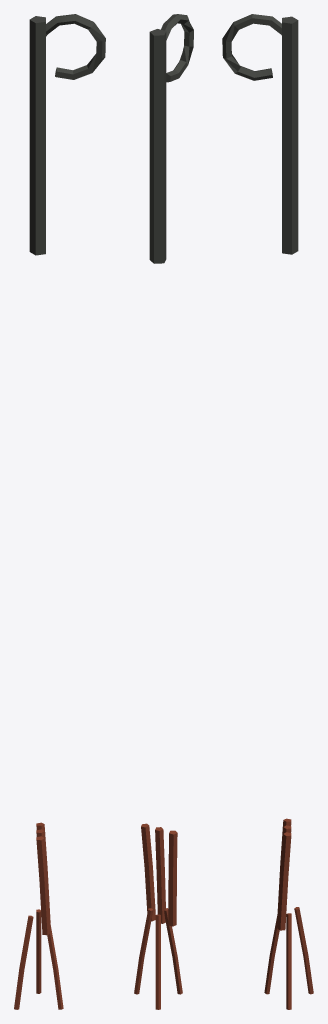
Rendered from lantern-hardware-lod1.fbx.
The picture shows the model from 3 angles, left to right: view 1: azimuth 90°, elevation 25°; view 2: azimuth 150°, elevation 25°; view 3: azimuth 270°, elevation 25°; orthographic projection.
Parts seen in each view (by area): view 1: Lantern suspension stem, Bent iron suspension hook, Braided lantern tail cord, Separate cloth tassel strands.002, Separate cloth tassel strands, Separate cloth tassel strands.001; view 2: Lantern suspension stem, Bent iron suspension hook, Braided lantern tail cord, Braided lantern tail cord.001, Braided lantern tail cord.002, Separate cloth tassel strands.002, Separate cloth tassel strands, Separate cloth tassel strands.001; view 3: Lantern suspension stem, Bent iron suspension hook, Braided lantern tail cord.002, Separate cloth tassel strands, Separate cloth tassel strands.002, Separate cloth tassel strands.001.
Part boxes in pixels (x1,y1,x2,y2): Lantern suspension stem: [29, 16, 45, 255]; Bent iron suspension hook: [46, 14, 105, 79]; Braided lantern tail cord: [36, 836, 50, 935]; Separate cloth tassel strands.002: [14, 915, 33, 1009]; Separate cloth tassel strands: [36, 909, 41, 993]; Separate cloth tassel strands.001: [47, 921, 63, 1009]; Lantern suspension stem: [149, 29, 166, 263]; Bent iron suspension hook: [161, 14, 193, 82]; Braided lantern tail cord: [168, 830, 177, 926]; Braided lantern tail cord.001: [155, 827, 165, 923]; Braided lantern tail cord.002: [141, 823, 155, 921]; Separate cloth tassel strands.002: [155, 914, 160, 1009]; Separate cloth tassel strands: [134, 908, 153, 994]; Separate cloth tassel strands.001: [164, 908, 182, 994]; Lantern suspension stem: [282, 16, 298, 254]; Bent iron suspension hook: [222, 14, 281, 80]; Braided lantern tail cord.002: [277, 832, 291, 930]; Separate cloth tassel strands: [286, 913, 291, 1009]; Separate cloth tassel strands.002: [294, 907, 313, 994]; Separate cloth tassel strands.001: [264, 912, 279, 994].
Size of the model in its own units: 3.26 by 72.43 by 6.09.
